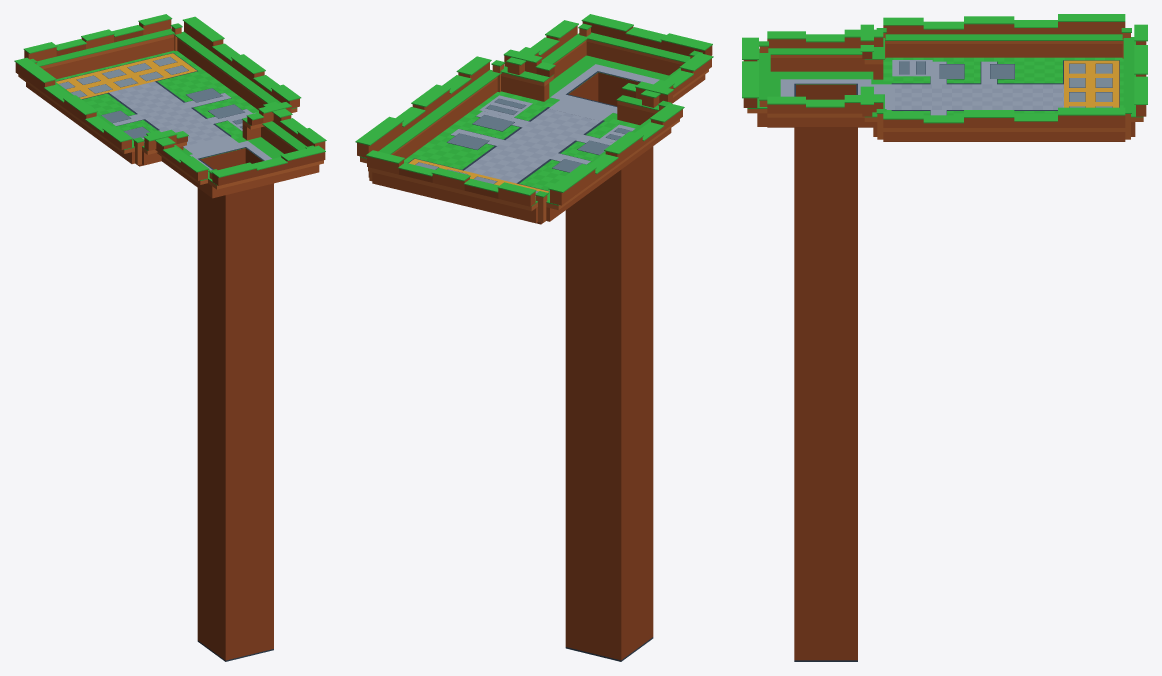
Rendered from EnergyCore-CourtyardLayout.fbx.
The picture shows the model from 3 angles, left to right: view 1: azimuth 30°, elevation 25°; view 2: azimuth 150°, elevation 25°; view 3: azimuth 270°, elevation 25°; orthographic projection. The views are drawn at different scales.
Visible parts, largest first — view 1: Mine shaft - south, Mine shaft - west, AFK court paving, Mine shaft - east, Courtyard to mine connection; view 2: Mine shaft - north, Mine shaft - west, Mine shaft - east, Front forecourt grass east, Courtyard to mine connection, Mine shaft - south, Cliff_-1_64_upper, Cliff_1_64_crown, Cliff_-1_64_crown, Cliff_1_64_upper; view 3: Mine shaft - east, AFK court paving, Front forecourt grass west, Cliff_-1_64_lower, Cliff_1_64_upper, Cliff_-1_64_upper, Mine shaft - west, Cliff_-1_-48_lower, Cliff_1_64_lower, Cliff_-1_12_lower, Cliff_1_64_crown.
Part boxes in pixels (x1,y1,x2,y2): Mine shaft - south: (227, 184, 272, 660); Mine shaft - west: (197, 188, 226, 660); AFK court paving: (56, 53, 196, 99); Mine shaft - east: (245, 149, 273, 648); Courtyard to mine connection: (183, 135, 240, 155); Mine shaft - north: (567, 171, 619, 659); Mine shaft - west: (619, 146, 653, 660); Mine shaft - east: (565, 77, 598, 646); Front forecourt grass east: (544, 55, 612, 104); Courtyard to mine connection: (549, 98, 614, 121); Mine shaft - south: (598, 72, 639, 105); Cliff_-1_64_upper: (550, 169, 595, 205); Cliff_1_64_crown: (355, 116, 403, 145); Cliff_-1_64_crown: (548, 164, 596, 192); Cliff_1_64_upper: (357, 122, 402, 157); Mine shaft - east: (794, 127, 857, 660); AFK court paving: (1064, 60, 1119, 107); Front forecourt grass west: (770, 71, 883, 84); Cliff_-1_64_lower: (1058, 44, 1122, 57); Cliff_1_64_upper: (1058, 115, 1125, 127); Cliff_-1_64_upper: (1058, 22, 1125, 34); Mine shaft - west: (796, 84, 856, 99); Cliff_-1_-48_lower: (964, 44, 1014, 57); Cliff_1_64_lower: (1058, 132, 1125, 141); Cliff_-1_12_lower: (1014, 44, 1057, 57); Cliff_1_64_crown: (1058, 107, 1125, 115).
Size of the model in its own units: 284 by 767 by 483.
